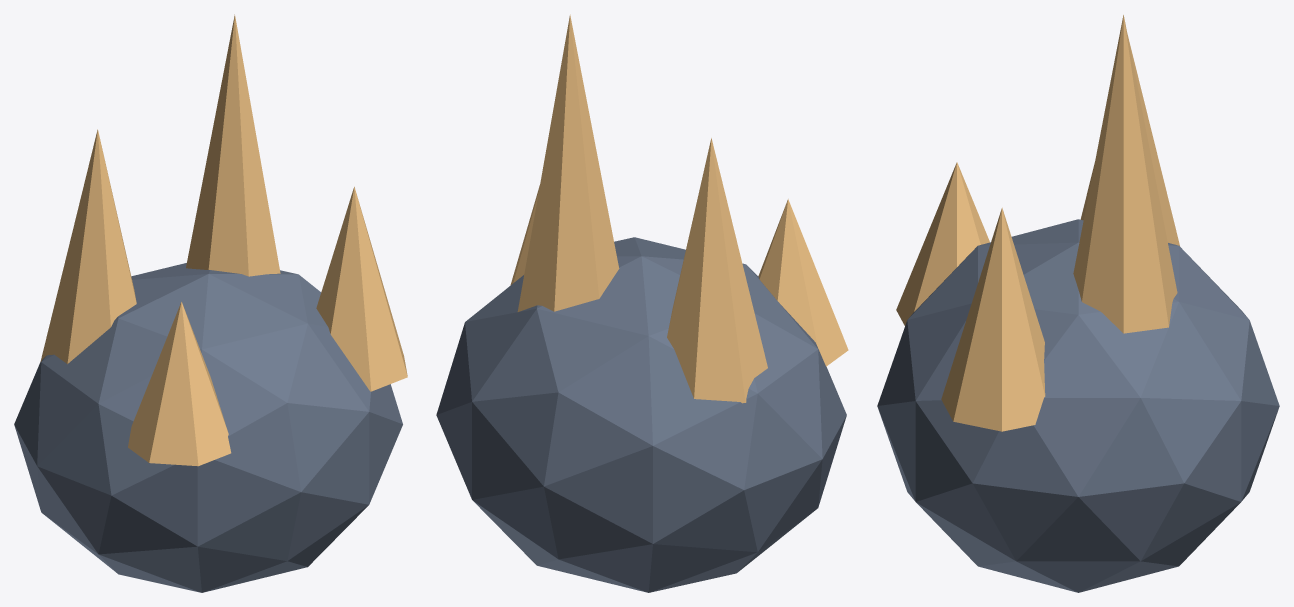
File: ore_Prometium.glb
3 views of the same model, side by side, from view 1: azimuth 30°, elevation 25°; view 2: azimuth 150°, elevation 25°; view 3: azimuth 270°, elevation 25° (orthographic). The views are drawn at different scales.
Parts seen in each view (by area): view 1: rock, crystal_1, crystal_0, crystal_3, crystal_2; view 2: rock, crystal_1, crystal_0, crystal_3, crystal_2; view 3: rock, crystal_1, crystal_2, crystal_3, crystal_0.
Boxes of the visible parts, box(x1,y1,x2,y2) form: rock: box(14, 263, 402, 592); crystal_1: box(186, 14, 280, 276); crystal_0: box(40, 129, 136, 363); crystal_3: box(128, 301, 231, 466); crystal_2: box(316, 186, 407, 391); rock: box(436, 237, 846, 592); crystal_1: box(517, 14, 619, 311); crystal_0: box(667, 138, 767, 403); crystal_3: box(758, 199, 848, 366); crystal_2: box(510, 185, 539, 285); rock: box(877, 219, 1279, 592); crystal_1: box(1073, 15, 1177, 333); crystal_2: box(941, 207, 1045, 431); crystal_3: box(896, 162, 989, 325); crystal_0: box(1080, 35, 1179, 245).
Size of the model in its own units: 1.24 by 1.85 by 1.16.
